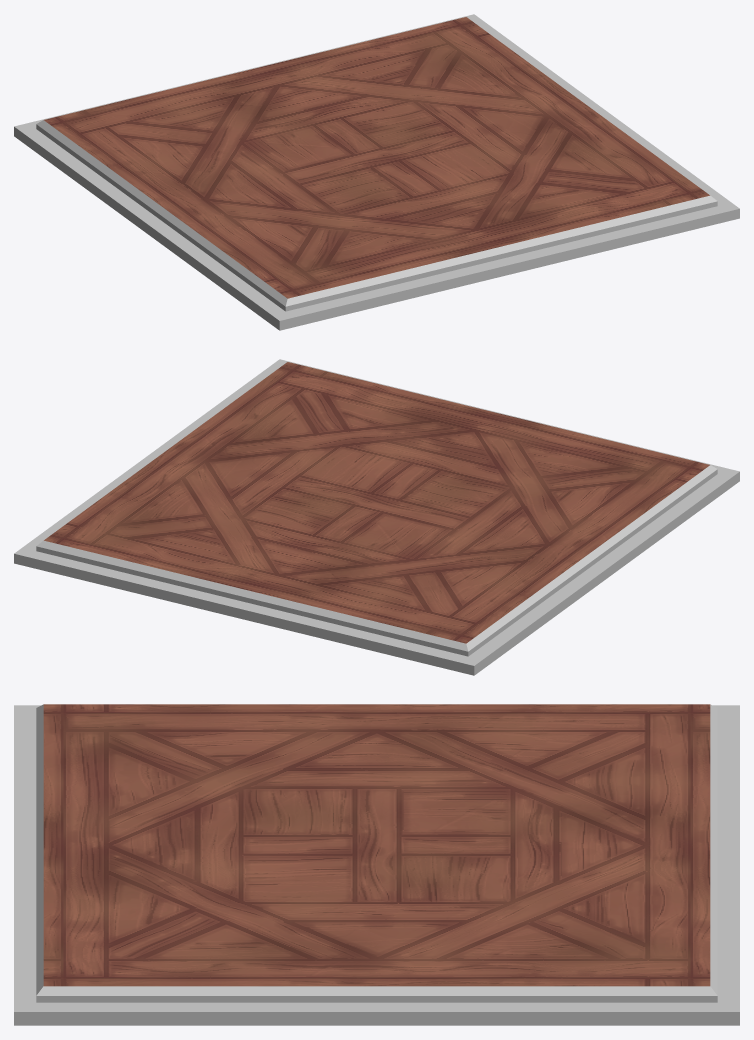
The model's file is JengaPlatform_Art.fbx.
3 renders of one model, top to bottom at view 1: azimuth 30°, elevation 25°; view 2: azimuth 150°, elevation 25°; view 3: azimuth 270°, elevation 25°, orthographic. The views are drawn at different scales.
Parts seen in each view (by area): view 1: Oktoberfest_JengaPlatform; view 2: Oktoberfest_JengaPlatform; view 3: Oktoberfest_JengaPlatform.
Part boxes in pixels (x1=…): Oktoberfest_JengaPlatform: x1=14, y1=14, x2=739, y2=330; Oktoberfest_JengaPlatform: x1=14, y1=359, x2=739, y2=675; Oktoberfest_JengaPlatform: x1=14, y1=704, x2=739, y2=1025.
Bounding box in the file's own units: 425 × 17.3 × 425.
